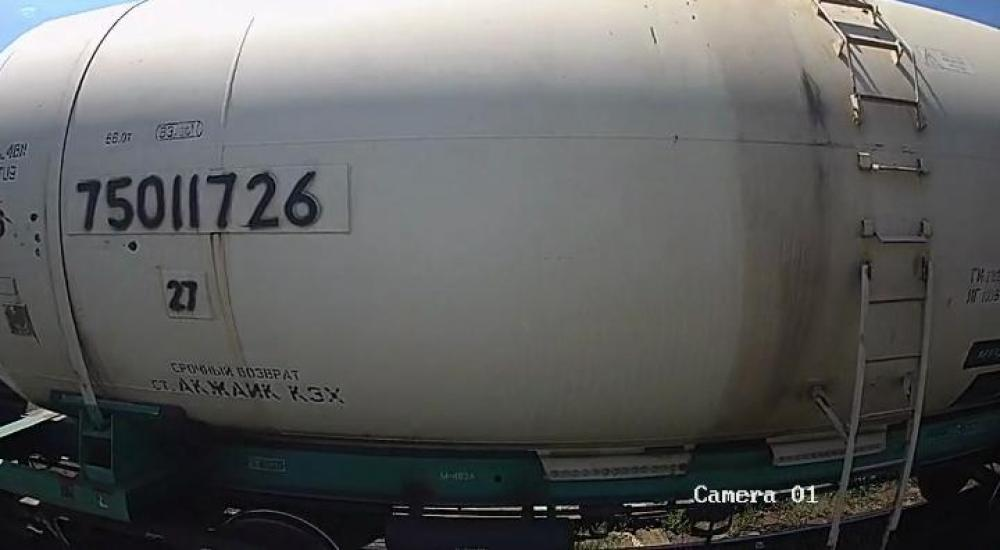Wagon-number: (70, 163, 328, 233)
